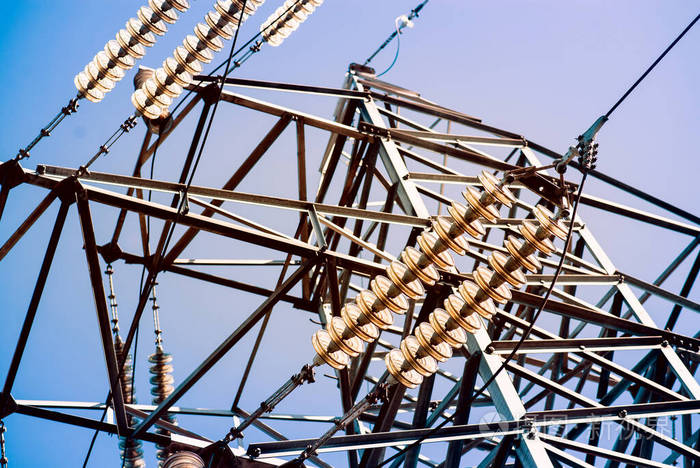insulator: (311, 171, 520, 370), (388, 209, 570, 386), (133, 1, 252, 122), (74, 1, 186, 103), (105, 339, 150, 468), (146, 346, 183, 467), (260, 1, 323, 46)
